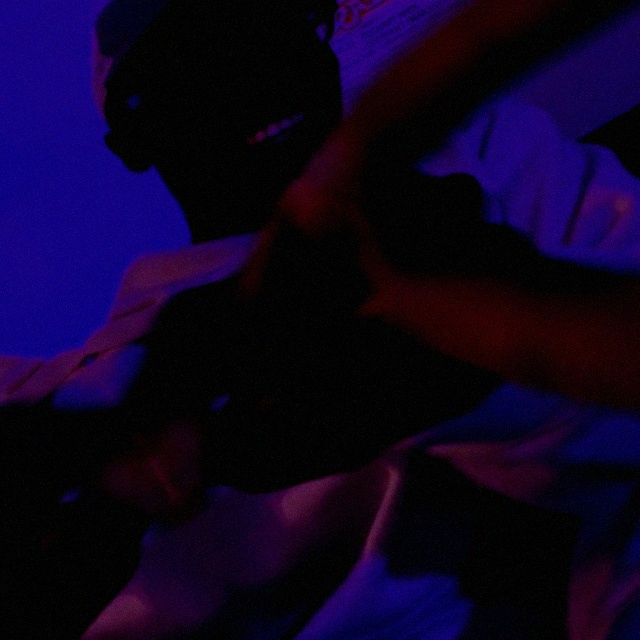Scissors: (0, 265, 299, 640)
